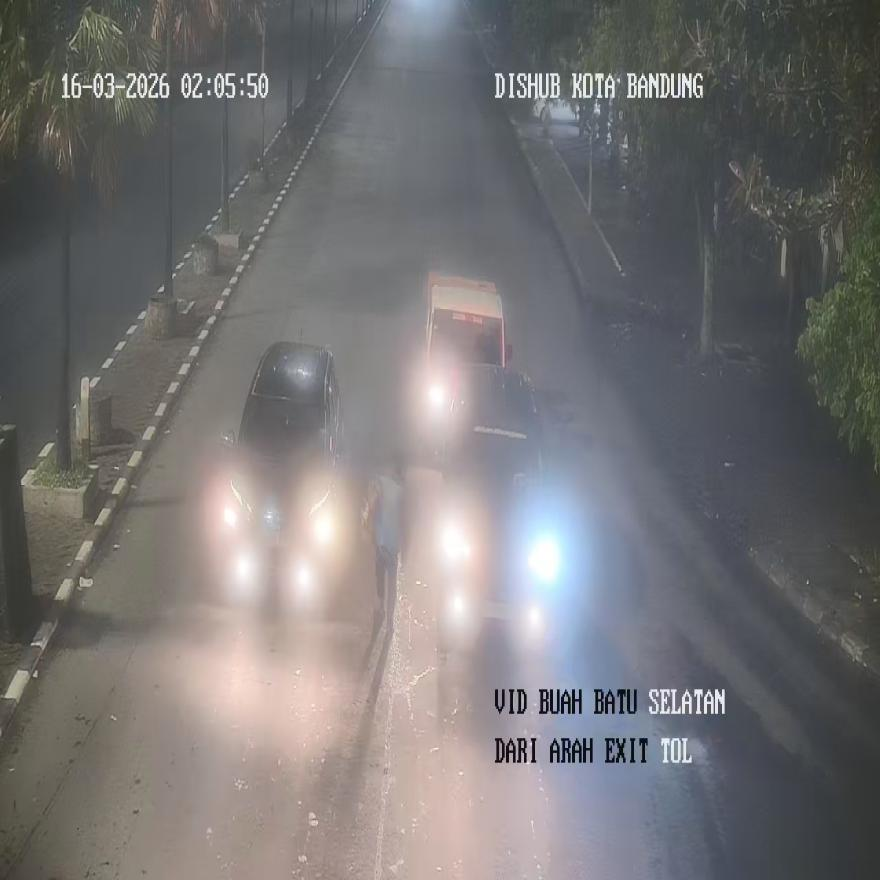Motor: (434, 364, 572, 653), (214, 341, 347, 612), (420, 273, 511, 463)
